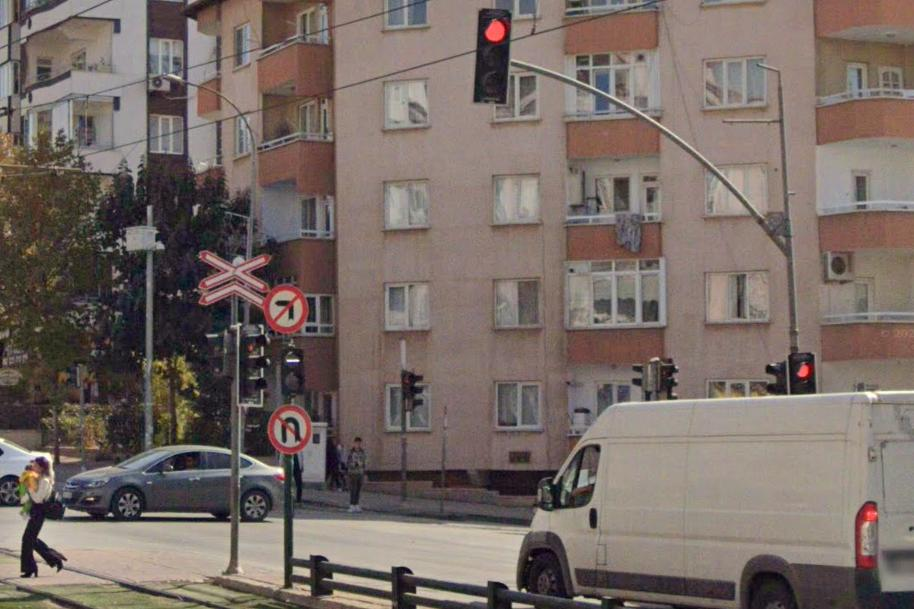leftturnsareforbidden: (268, 287, 308, 331)
redlight: (476, 4, 511, 106), (793, 352, 813, 395)
